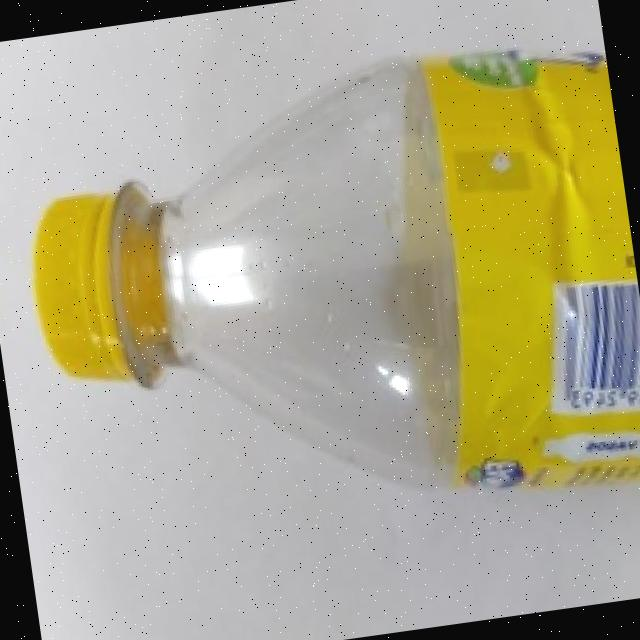bottle: (1, 29, 640, 574)
cap: (21, 176, 180, 402)
label: (386, 23, 640, 489)
